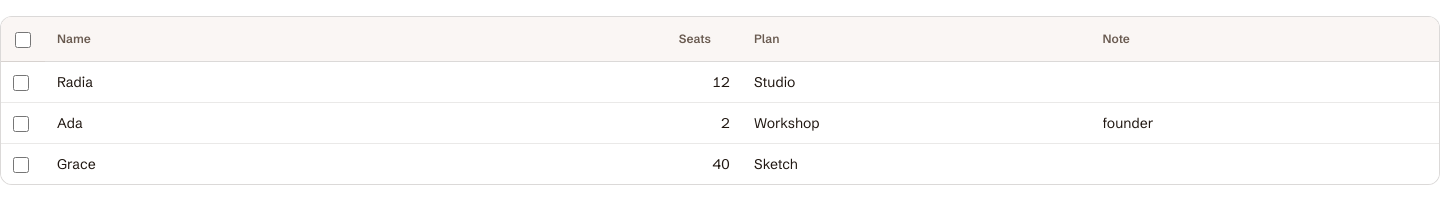
it: DataTable selection › shows the in-between state when only some rows are chosen
This screenshot has width=1452, height=202.
What coordinates should you click on to do the following:
click the checkbox named "Select Ada"
I would click on:
 (21, 124)
Its box is [13,116,29,132].
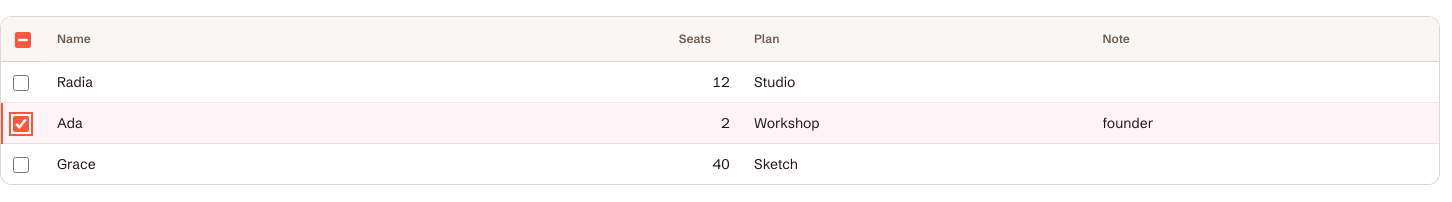
What coordinates should you click on to do the following:
click the checkbox named "Select Grace"
I would click on:
 (21, 165)
Its box is [13,157,29,173].
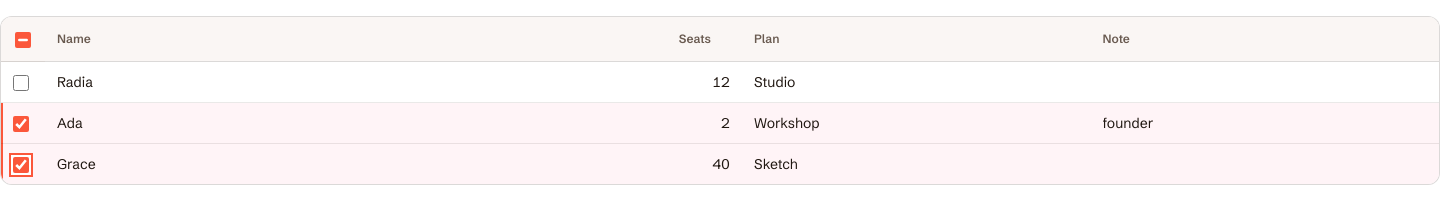
What coordinates should you click on to do the following:
click the checkbox named "Select Radia"
I would click on:
 (21, 83)
Its box is [13,75,29,91].
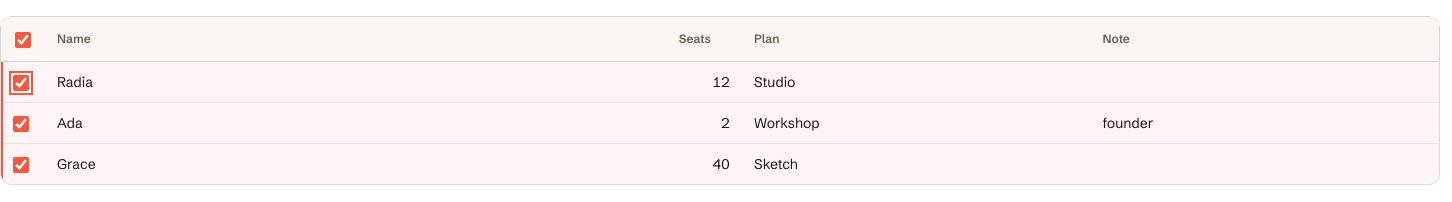
Expected: the checkbox named "Select all" is checked, [15,32,31,48]
